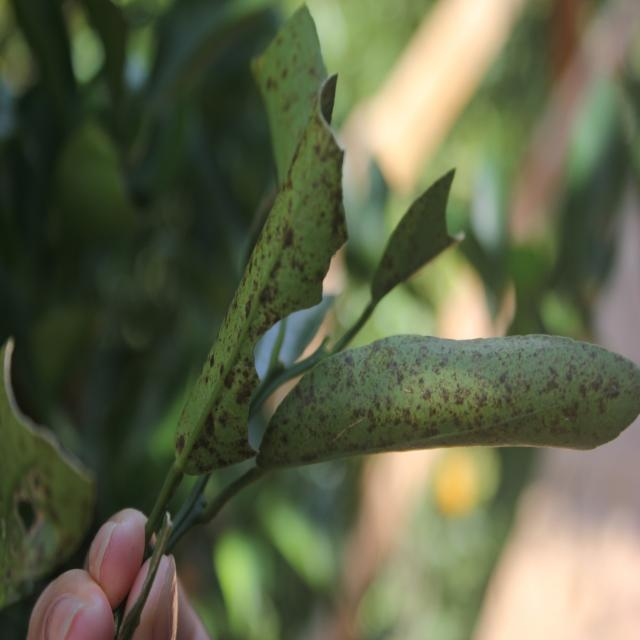melanose: (148, 70, 350, 508), (259, 327, 637, 470), (257, 5, 341, 165)
